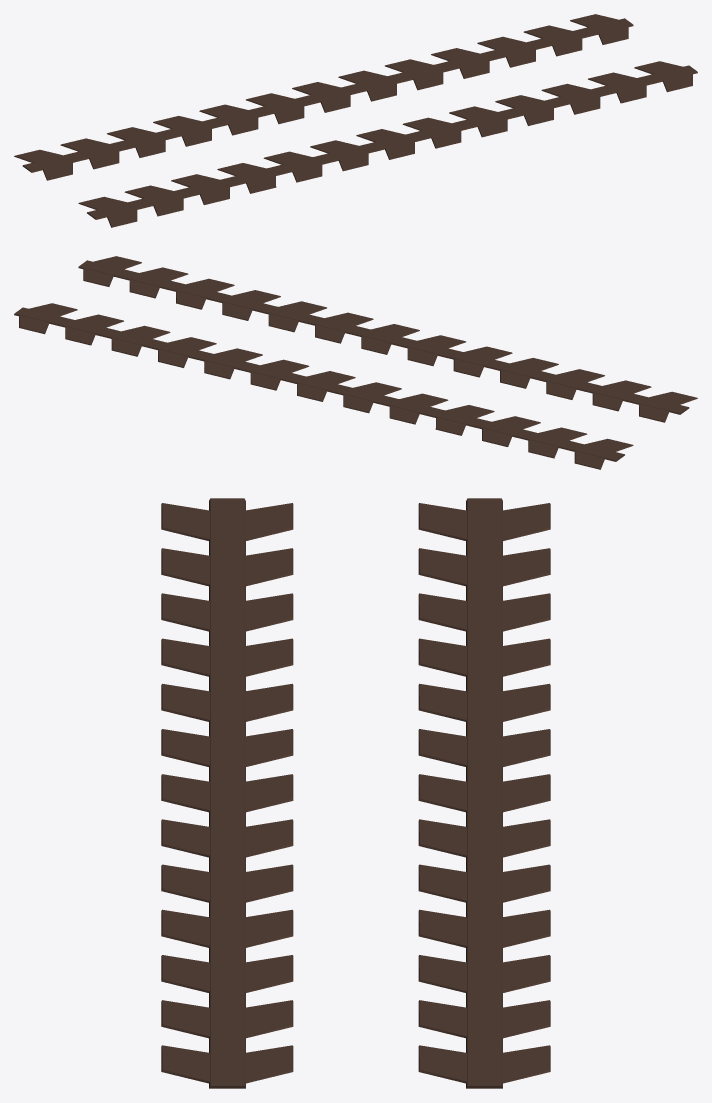
Rendered from rover-tracks-decal-865580.glb.
3 views of the same model, one above another, from view 1: azimuth 30°, elevation 25°; view 2: azimuth 150°, elevation 25°; view 3: azimuth 270°, elevation 25° (orthographic). The views are drawn at different scales.
Parts seen in each view (by area): view 1: rover-tracks-mark; view 2: rover-tracks-mark; view 3: rover-tracks-mark.
Part boxes in pixels (left/top/right/bottom): rover-tracks-mark: left=14, top=14, right=697, bottom=227; rover-tracks-mark: left=14, top=256, right=697, bottom=469; rover-tracks-mark: left=161, top=498, right=550, bottom=1088.
Size of the model in its own units: 4 by 0.008 by 1.12.
